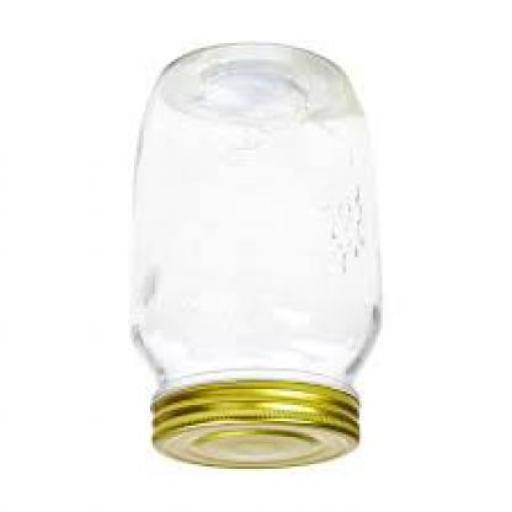glass: (125, 46, 382, 402)
metal: (148, 382, 357, 471)
